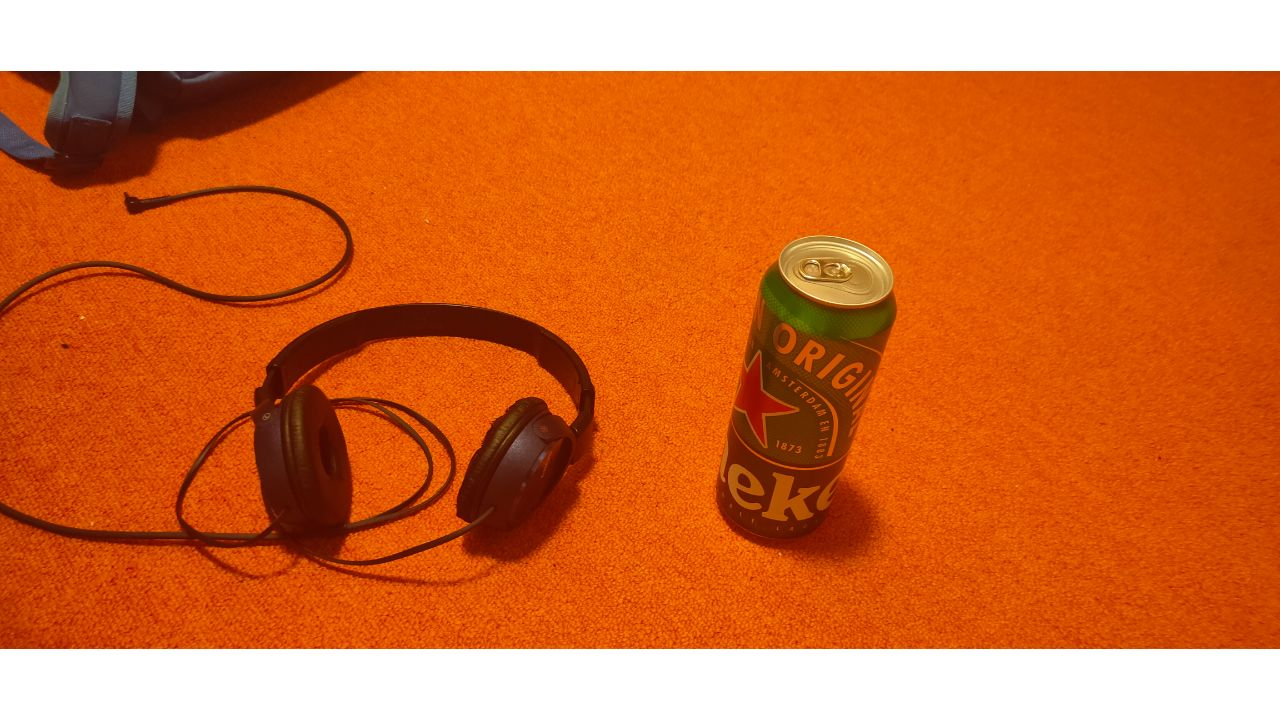Can: (718, 233, 898, 544)
